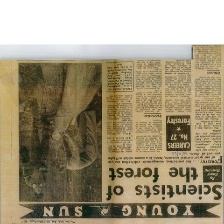news_paper: (0, 44, 224, 224)
